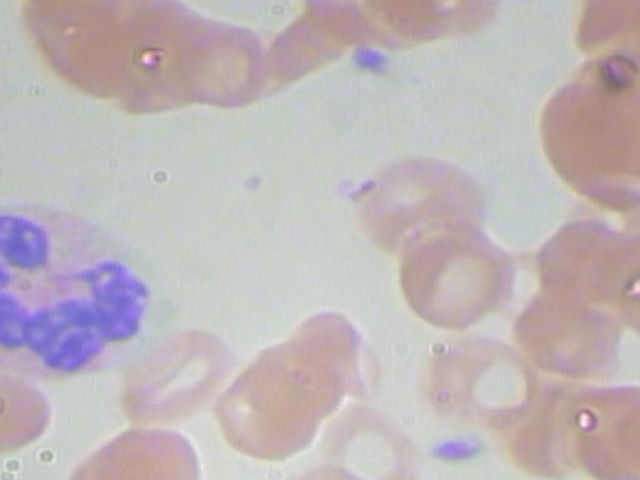Platelets: (426, 430, 487, 472), (342, 39, 402, 81)
RBC: (214, 329, 335, 471), (339, 150, 502, 254), (375, 219, 513, 335), (406, 316, 543, 432), (526, 80, 640, 215), (502, 271, 635, 380), (271, 297, 388, 414), (107, 322, 232, 430), (518, 201, 640, 311), (174, 13, 282, 109), (54, 419, 216, 480), (313, 400, 422, 480), (557, 378, 640, 480), (0, 356, 54, 465), (614, 243, 640, 350), (275, 460, 382, 480)
WBC: (0, 194, 186, 384)
